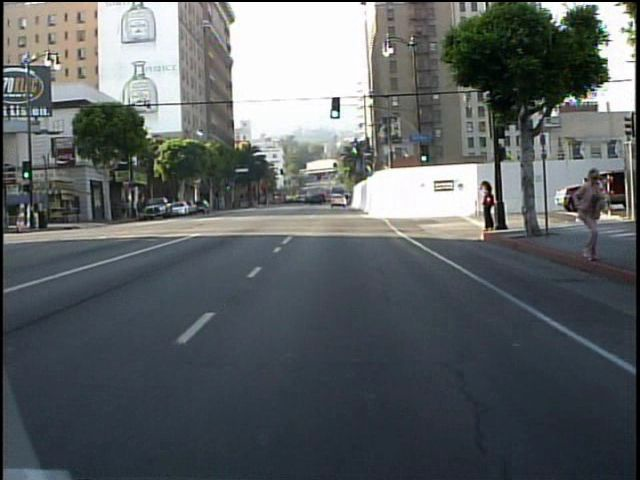person: (478, 179, 497, 236)
